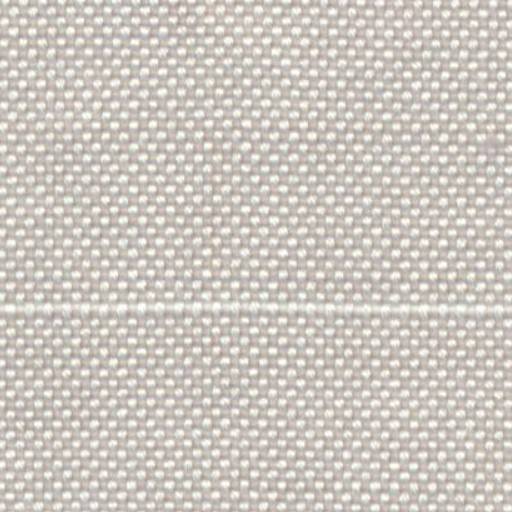TuoSha: (9, 274, 498, 342)
